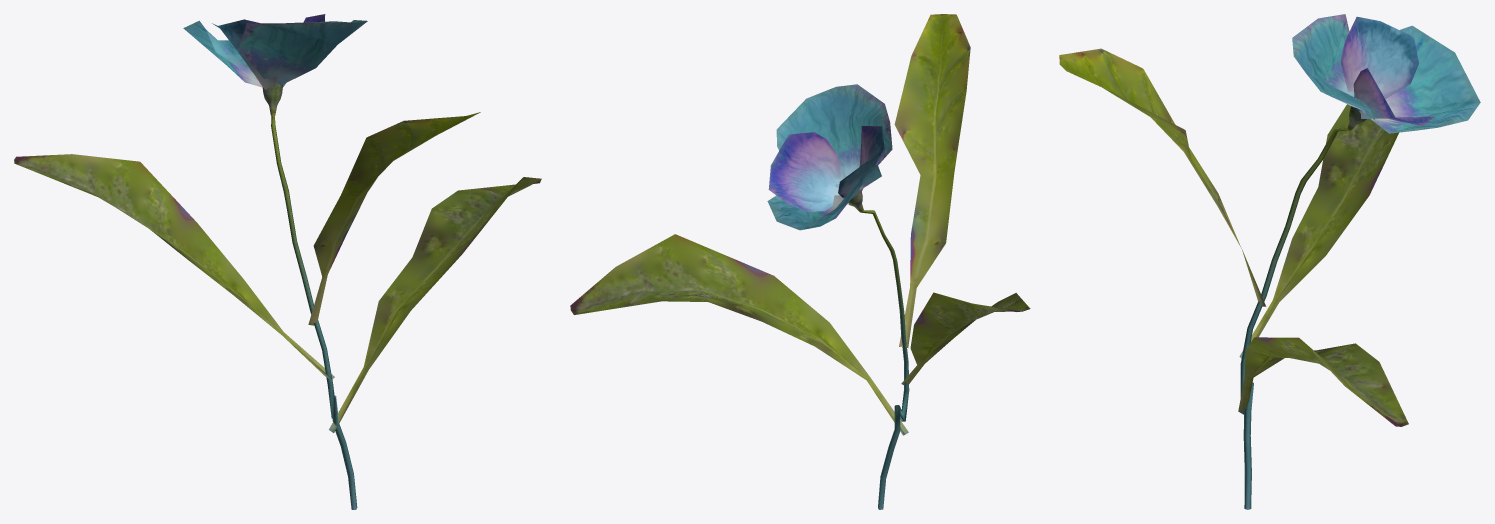
The model's file is Poppy_baby_short_cyan.glb.
The picture shows the model from 3 angles, left to right: view 1: azimuth 30°, elevation 25°; view 2: azimuth 150°, elevation 25°; view 3: azimuth 270°, elevation 25°; orthographic projection. The views are drawn at different scales.
Parts seen in each view (by area): view 1: baby poppy; view 2: baby poppy; view 3: baby poppy.
Part boxes in pixels (x1=…): baby poppy: x1=14, y1=14, x2=541, y2=509; baby poppy: x1=570, y1=14, x2=1030, y2=509; baby poppy: x1=1059, y1=14, x2=1480, y2=509.
Bounding box in the file's own units: 1.32 × 1.17 × 0.9442.
Materials: 1 (1 with a texture image).
